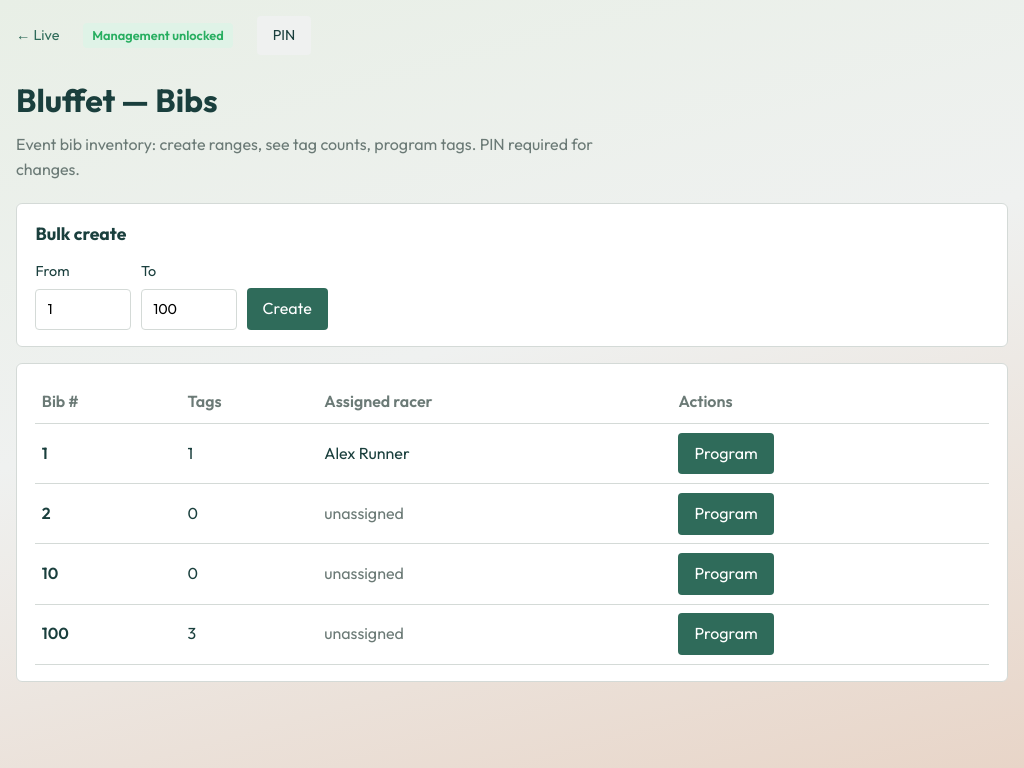
Test: EventBibs.vue › shows axios 503 body and clears Writing state after write-tag fails
Click the 2nd button with test id "bib-program-tag" at (726, 514), box [678,493,774,535]
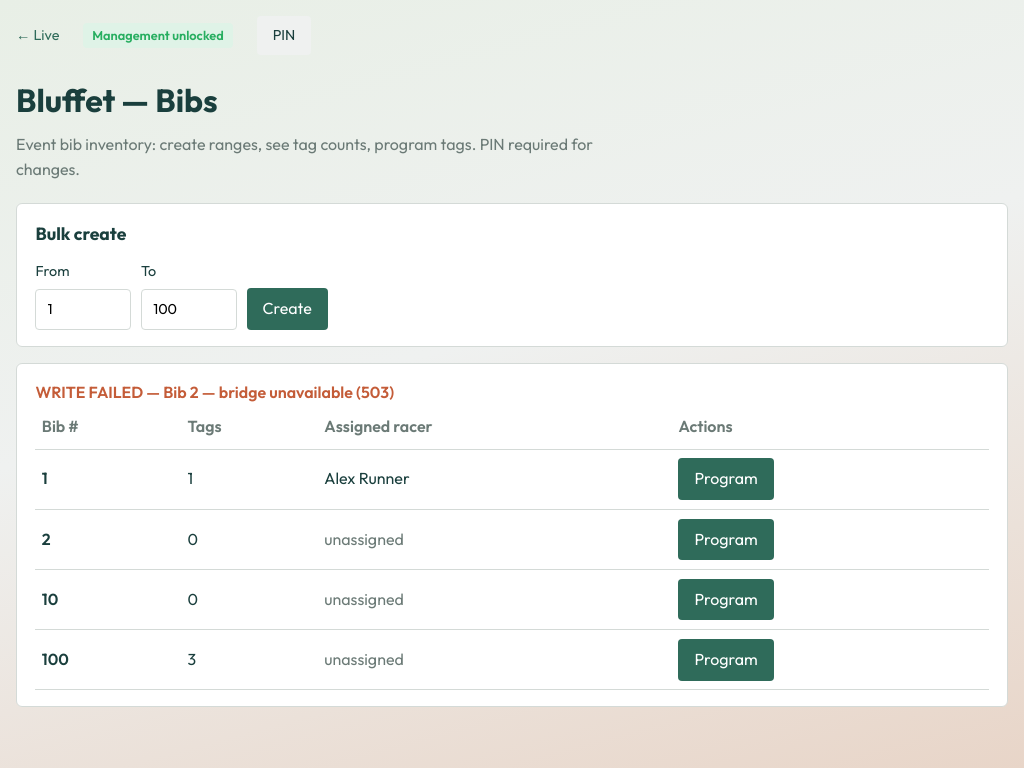
Expected: the 2nd button with test id "bib-program-tag" reads "Program", [678,519,774,560]
Now the message with test id "bib-program-error" shows "bridge unavailable", box [35,382,394,402]
Now the message with test id "bib-program-error" shows "503", box [35,382,394,402]
